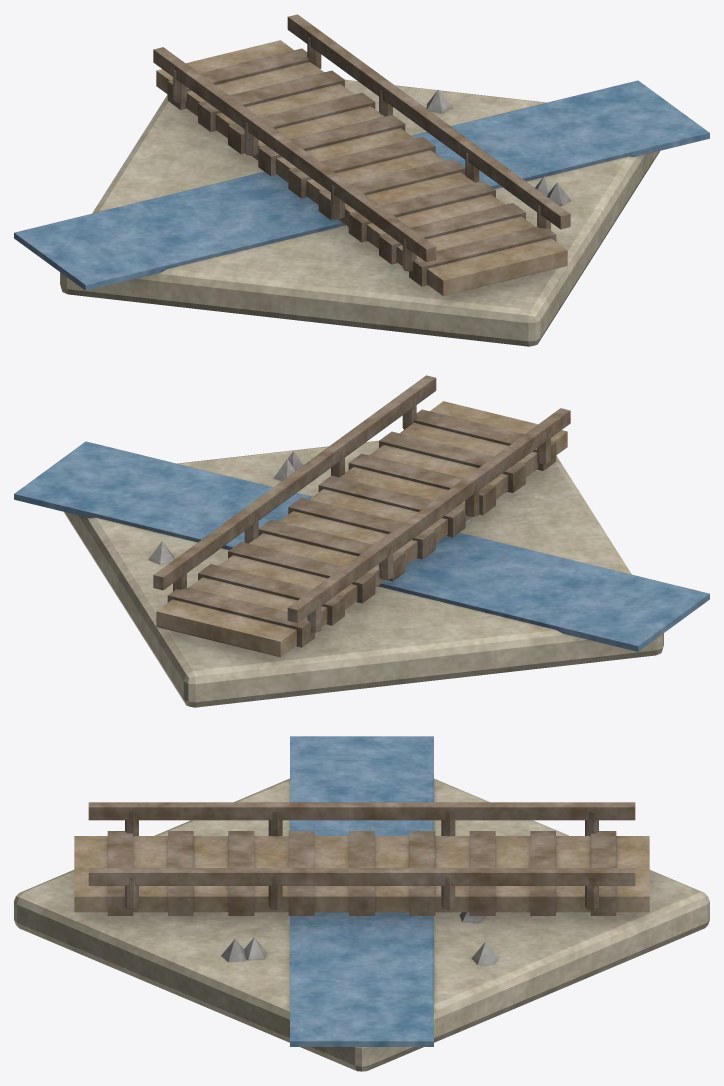
The model's file is bridge_a.glb.
The picture shows the model from 3 angles, top to bottom: view 1: azimuth 30°, elevation 25°; view 2: azimuth 150°, elevation 25°; view 3: azimuth 270°, elevation 25°; orthographic projection.
Visible parts, largest first — view 1: dilek; view 2: dilek; view 3: dilek.
Boxes of the visible parts, left/top/right/bottom form: dilek: left=14, top=14, right=709, bottom=346; dilek: left=14, top=375, right=709, bottom=707; dilek: left=14, top=736, right=709, bottom=1071.
Bounding box in the file's own units: 2.51 × 0.35 × 2.42.
Materials: 1 (1 with a texture image).
